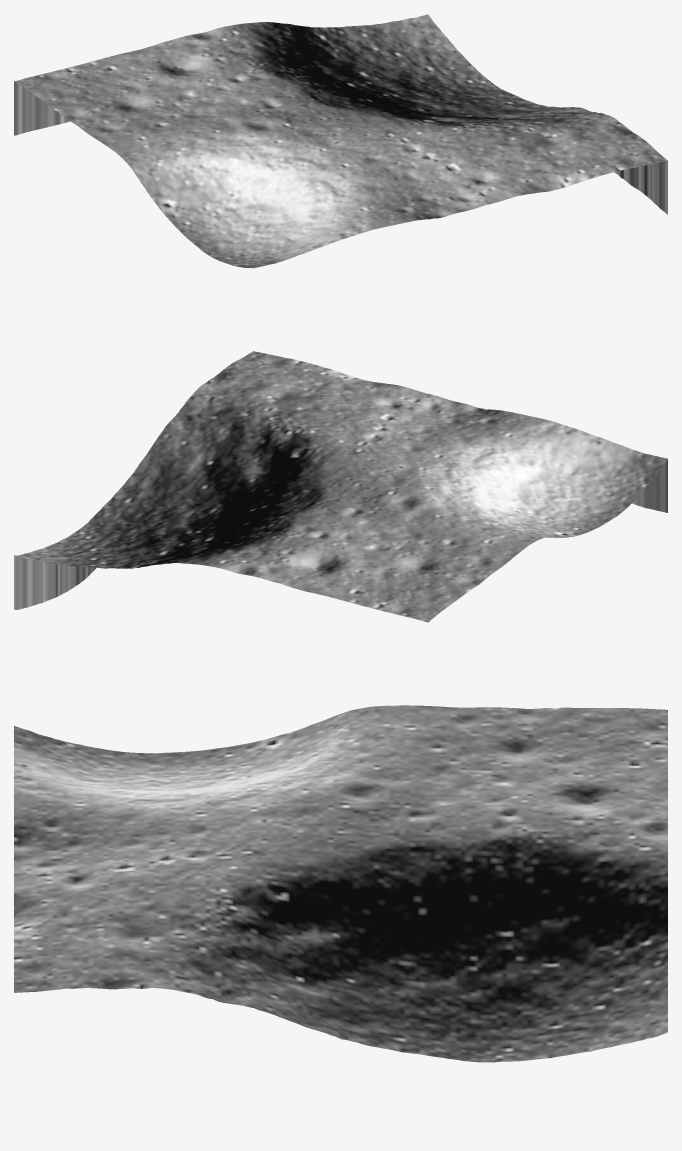
The picture shows the model from 3 angles, top to bottom: view 1: azimuth 30°, elevation 25°; view 2: azimuth 150°, elevation 25°; view 3: azimuth 270°, elevation 25°; orthographic projection. The views are drawn at different scales.
Size of the model in its own units: 638 by 171 by 639.
1 material, 1 textured.
